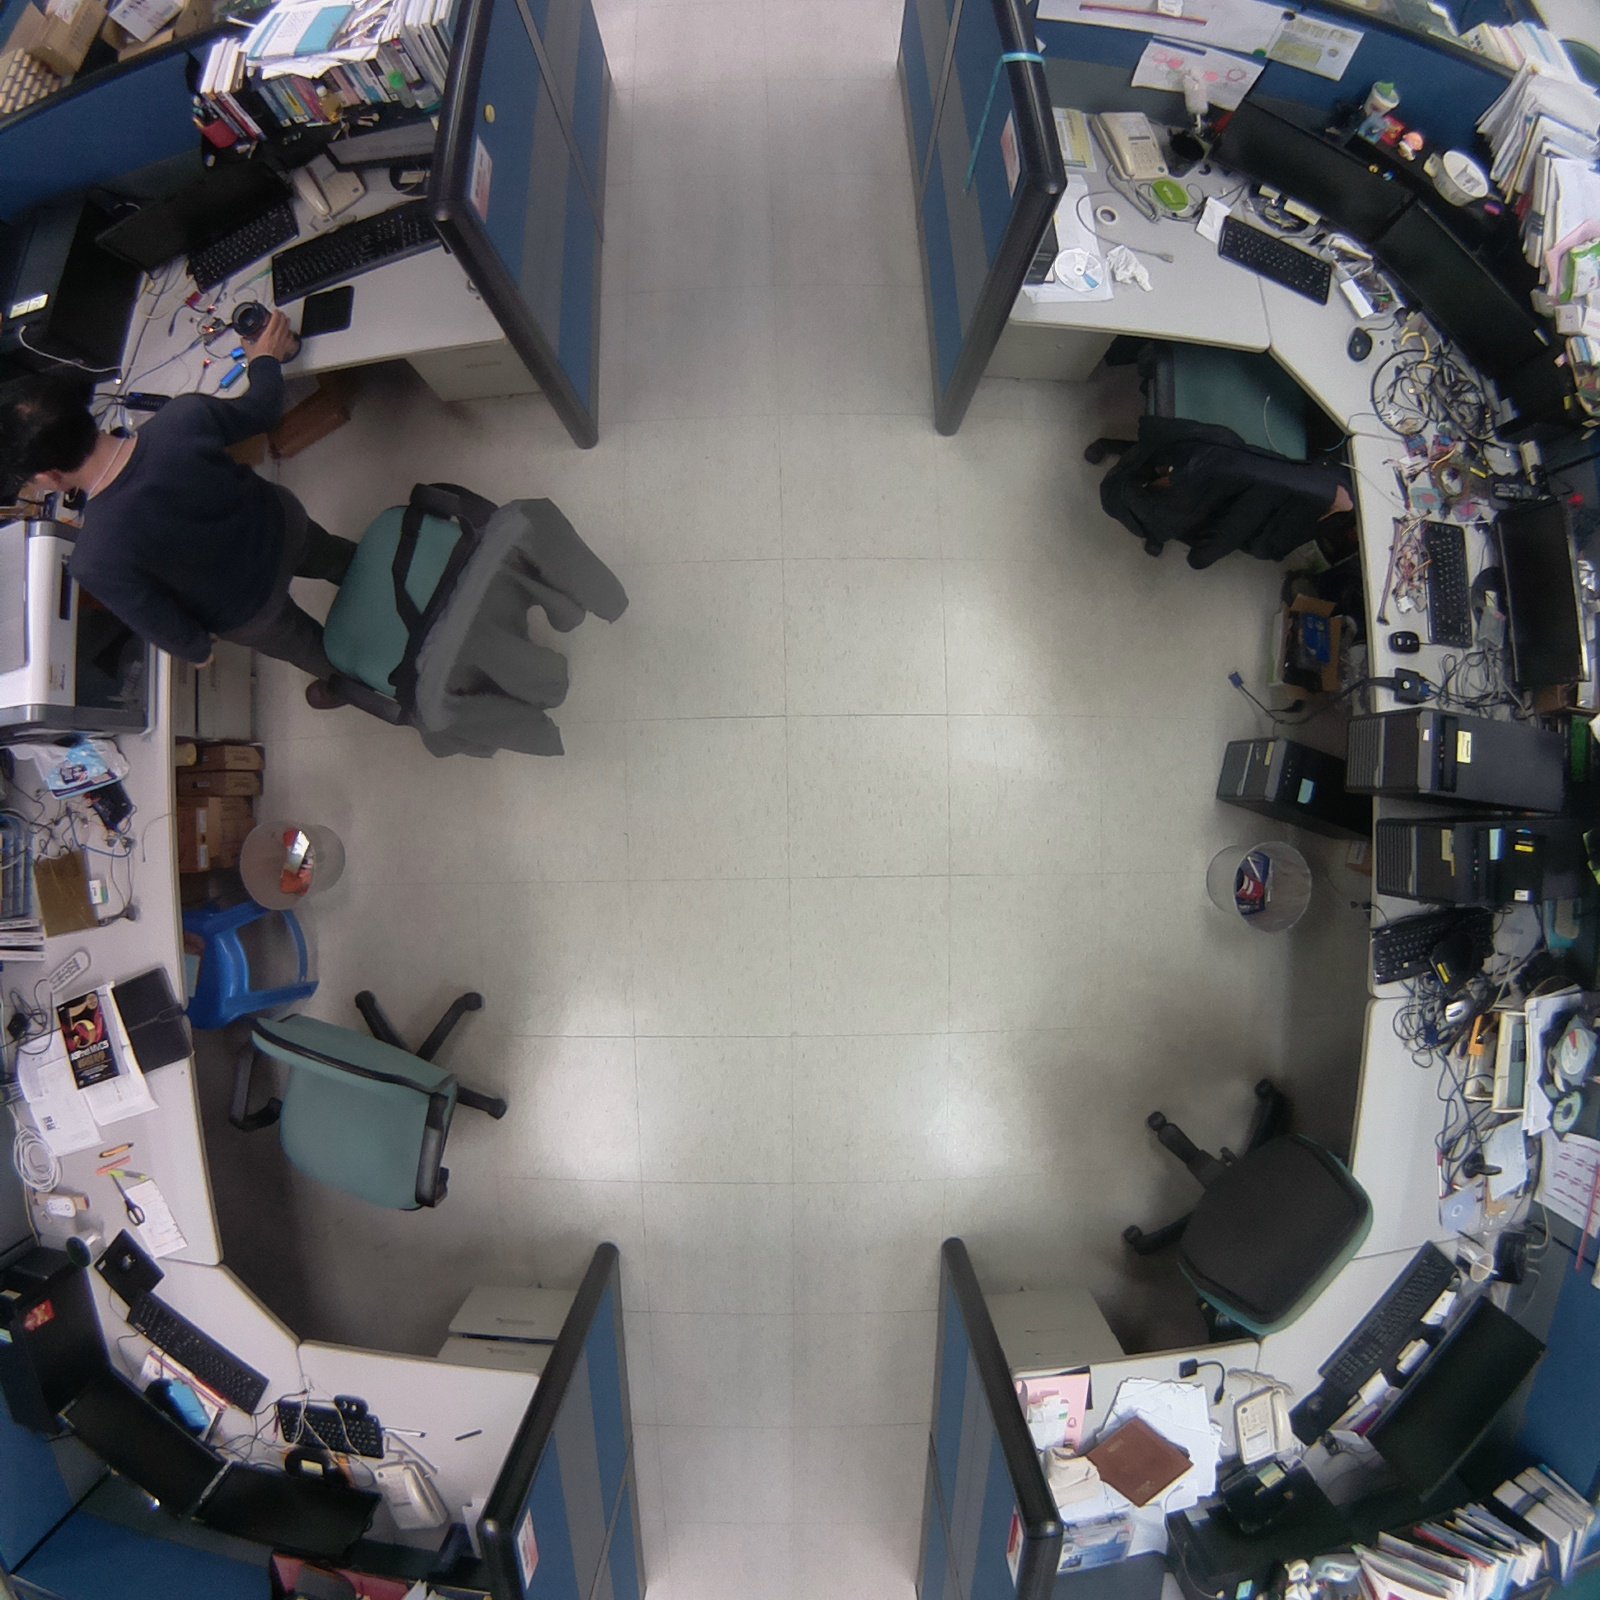chair: (227, 952, 547, 1229), (1112, 1058, 1383, 1358), (1068, 311, 1360, 588)
head: (1, 363, 102, 493)
standing: (1, 368, 650, 786)
